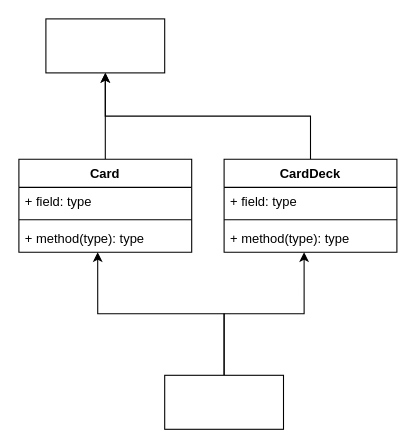
Image size: 416x448. Some labels were removed from this diagram. Each missing label, with the centre of its shape:
"app.ts" belongs at (x=224, y=401).
"«interface» ICardComponent" belongs at (x=105, y=45).
